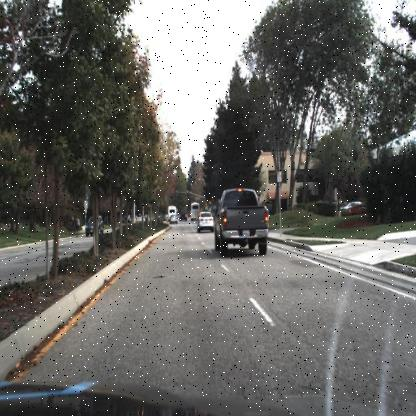car: (212, 185, 268, 259), (340, 203, 370, 221), (83, 212, 103, 236), (85, 214, 105, 236), (197, 210, 214, 234), (339, 199, 368, 209), (180, 212, 188, 221), (170, 214, 177, 223)
